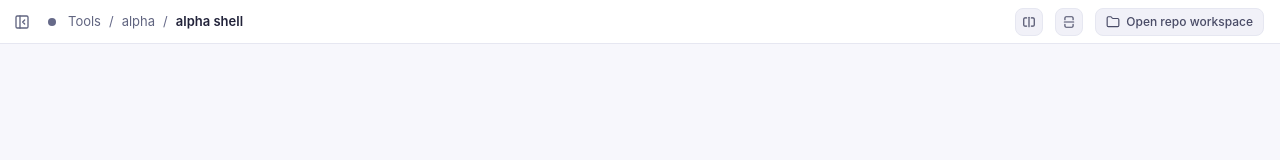
TerminalHeader › renames the session via the breadcrumb name (Enter commits)
Click the button "alpha shell" at x=209, y=22, box [176, 12, 243, 31]
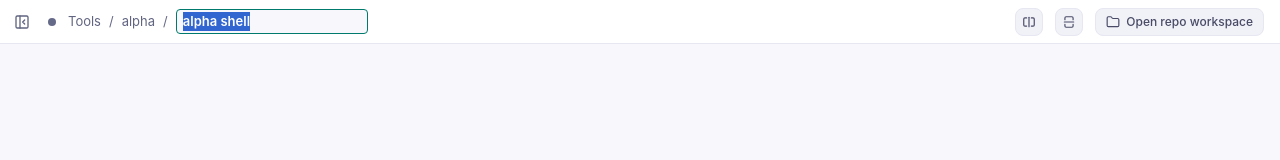
Replace the text in the field named "Rename terminal" with "crawler" at x=272, y=22, box [176, 9, 368, 34]
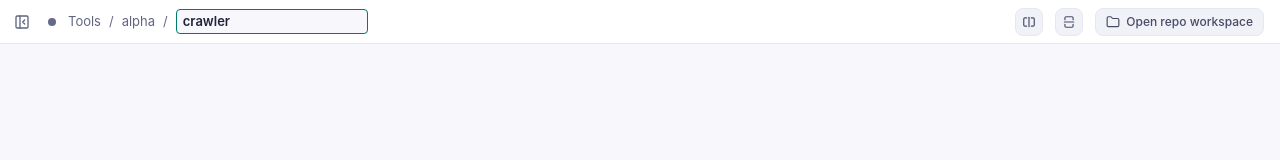
Press Enter in the field named "Rename terminal", box [176, 9, 368, 34]
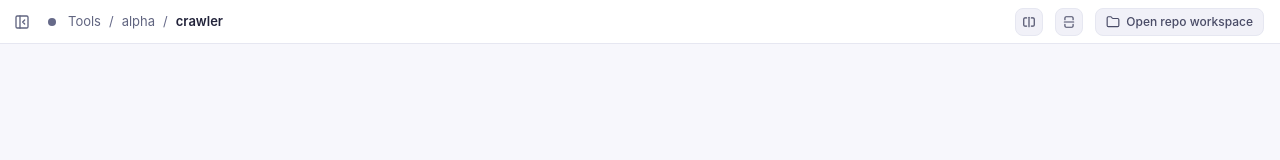
Expected: the button "crawler" is shown, [176, 12, 223, 31]
